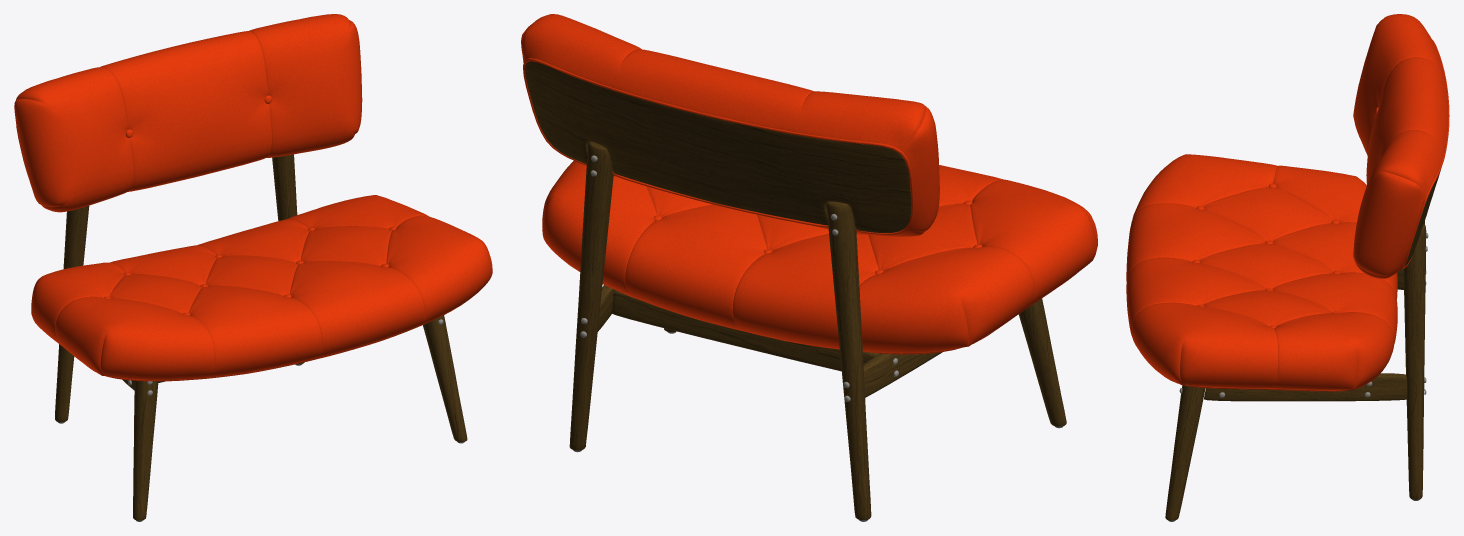
File: chair.glb
3 renders of one model, left to right at view 1: azimuth 30°, elevation 25°; view 2: azimuth 150°, elevation 25°; view 3: azimuth 270°, elevation 25°, orthographic. The views are drawn at different scales.
Visible parts, largest first — view 1: SheenChair_fabric, SheenChair_wood; view 2: SheenChair_fabric, SheenChair_wood; view 3: SheenChair_fabric, SheenChair_wood.
Boxes of the visible parts, x1,y1,x2,y2 form: SheenChair_fabric: (14, 14, 492, 381); SheenChair_wood: (55, 154, 467, 520); SheenChair_fabric: (521, 14, 1097, 354); SheenChair_wood: (525, 61, 1066, 520); SheenChair_fabric: (1126, 14, 1449, 391); SheenChair_wood: (1165, 170, 1440, 520).
Bounding box in the file's own units: 0.8266 × 0.6862 × 0.5702.
Materials: 4 (3 with a texture image).
